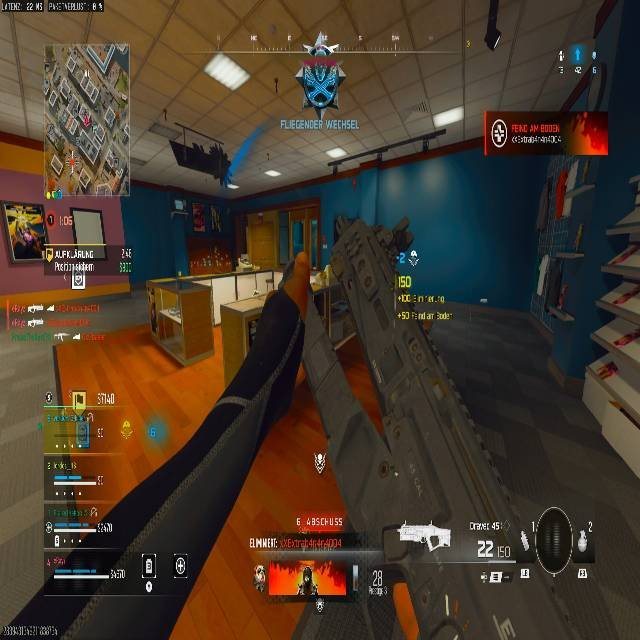player: (294, 33, 346, 109), (70, 394, 98, 450)
